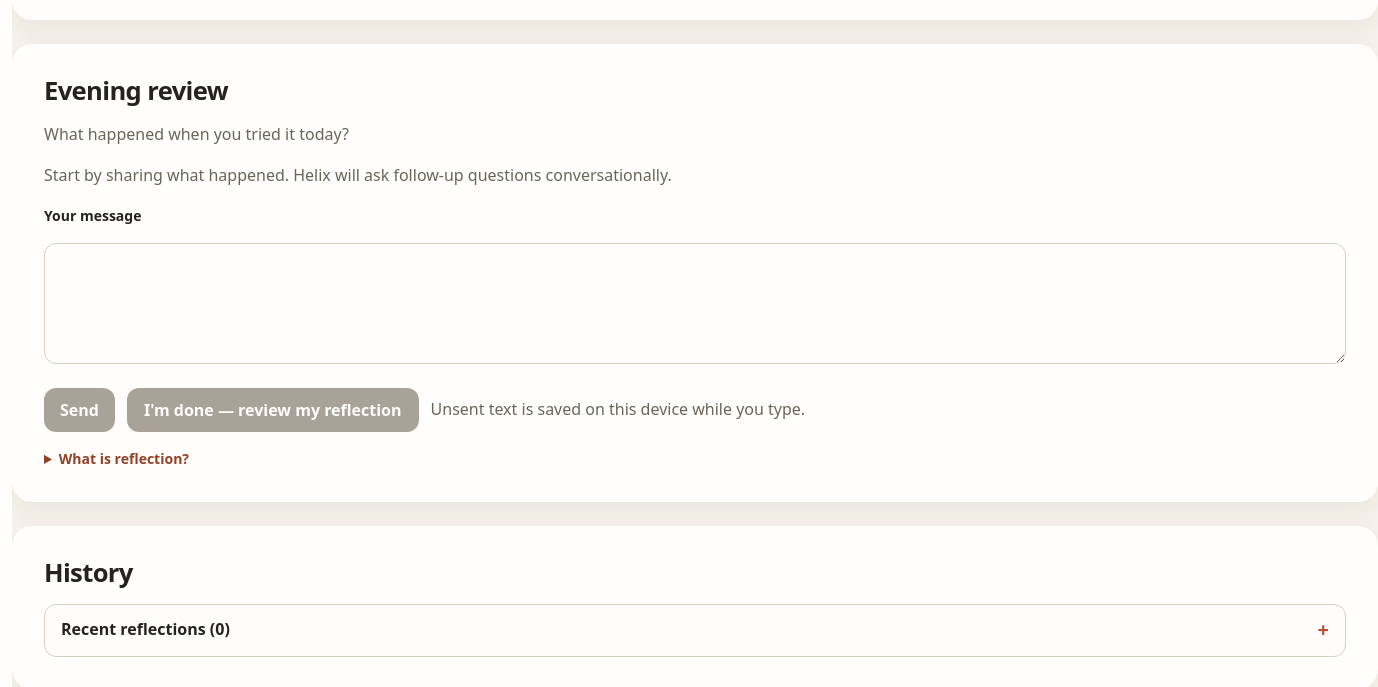
Test: TodayPage › offers an AI-derived memory proposal after saving a reflection, distinct from the wisdom card, and saves it
(page scrolled)
Expected: the text "Something worth remembering about you" is not shown
Type "I paused twice today." into the text box labelled "Your message" at (695, 304), box x1=44 y1=243 x2=1346 y2=364
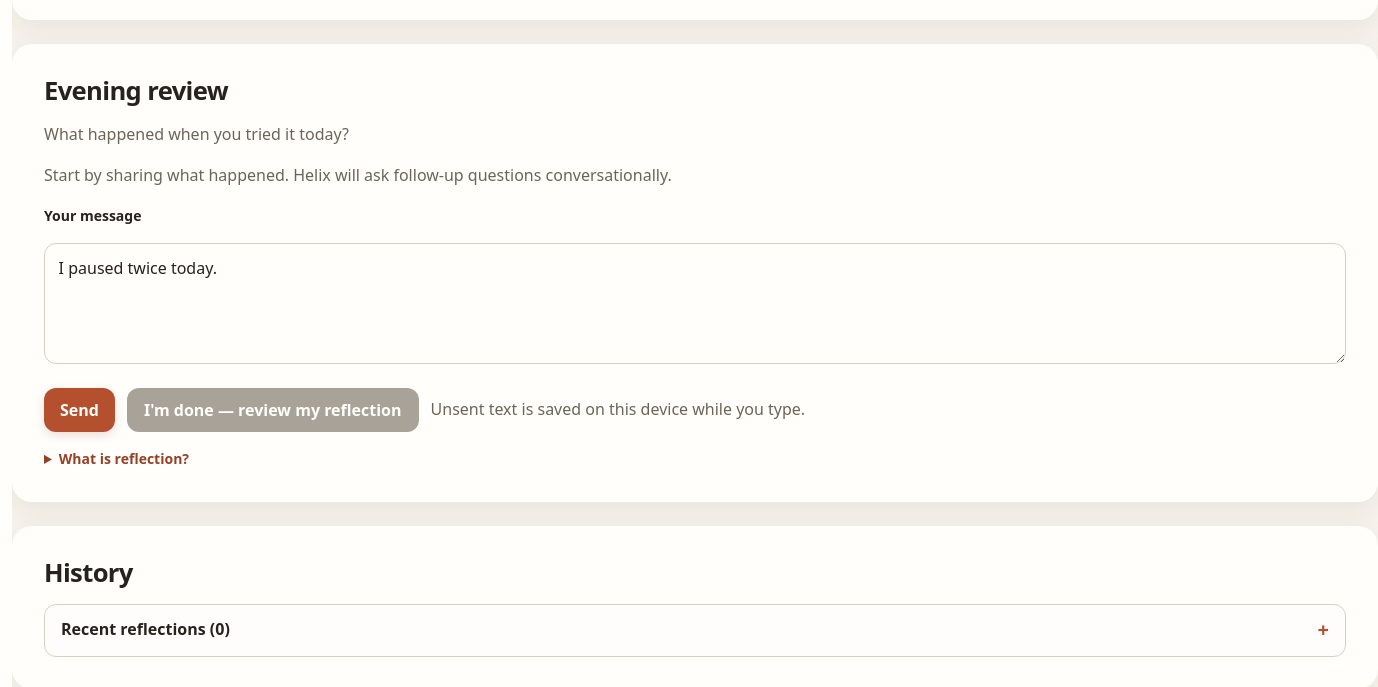
Click the button "Send" at (79, 410), box x1=44 y1=388 x2=115 y2=432
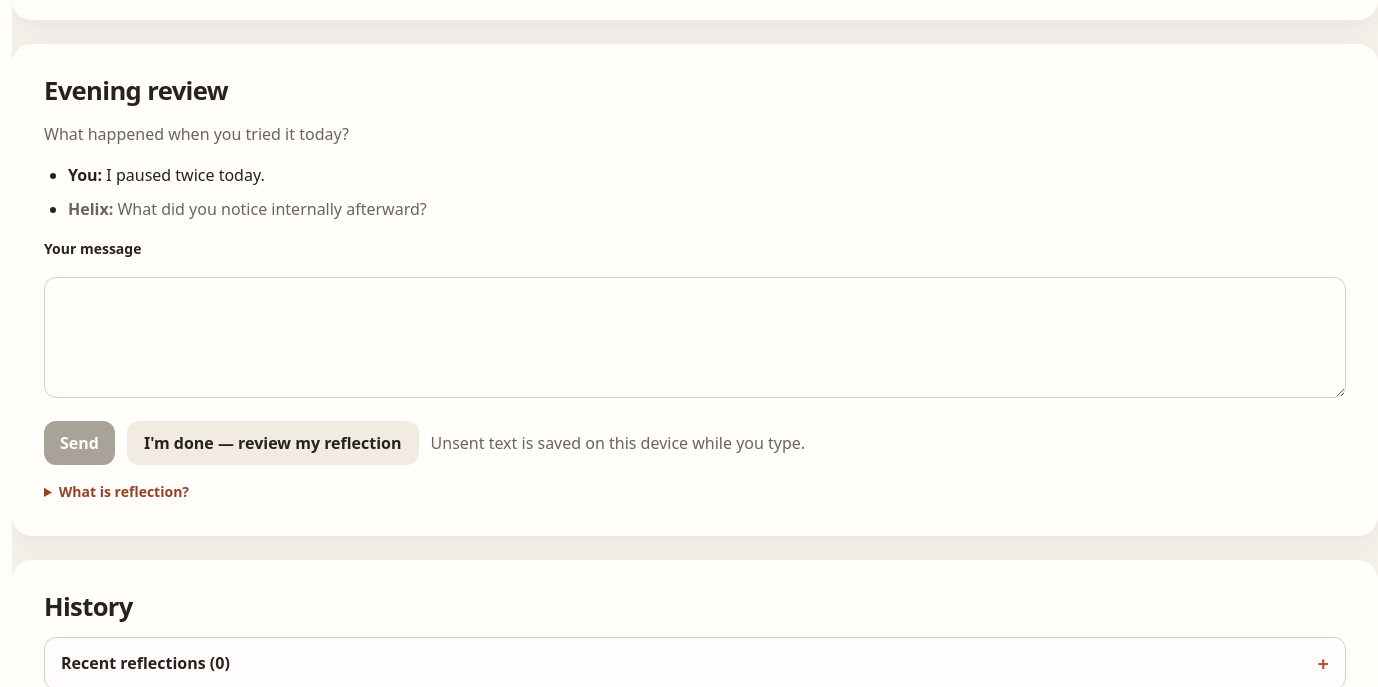
Click the button "I'm done — review my reflection" at (273, 444), box x1=127 y1=422 x2=418 y2=466
(page scrolled)
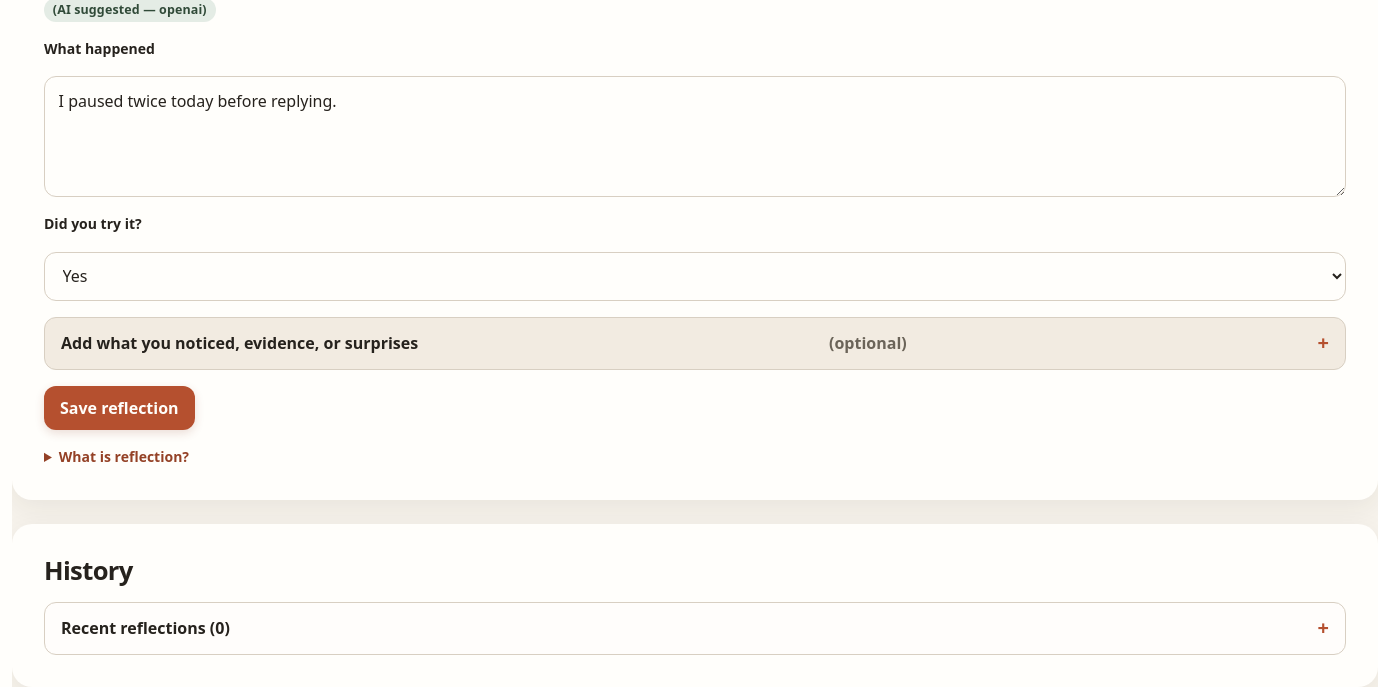
Click the button "Save reflection" at (119, 408), box x1=44 y1=386 x2=195 y2=430
(page scrolled)
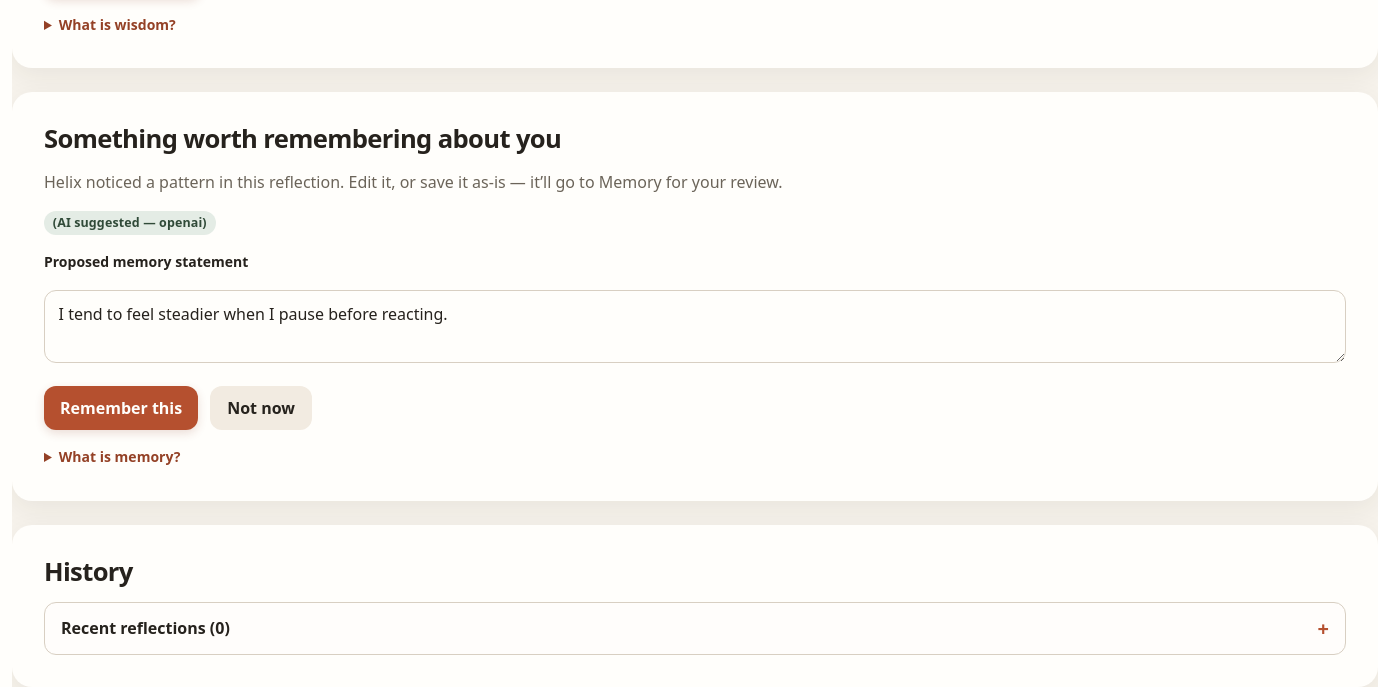
Result: the text "(AI suggested — openai)" is shown at x1=44 y1=211 x2=216 y2=235
Result: the heading "Something worth remembering about you" is shown at x1=44 y1=121 x2=561 y2=156
Result: the text box labelled "Proposed memory statement" holds "I tend to feel steadier when I pause before reacting." at x1=44 y1=290 x2=1346 y2=362
Click the button "Remember this" at (121, 408), box x1=44 y1=386 x2=198 y2=430
(page scrolled)
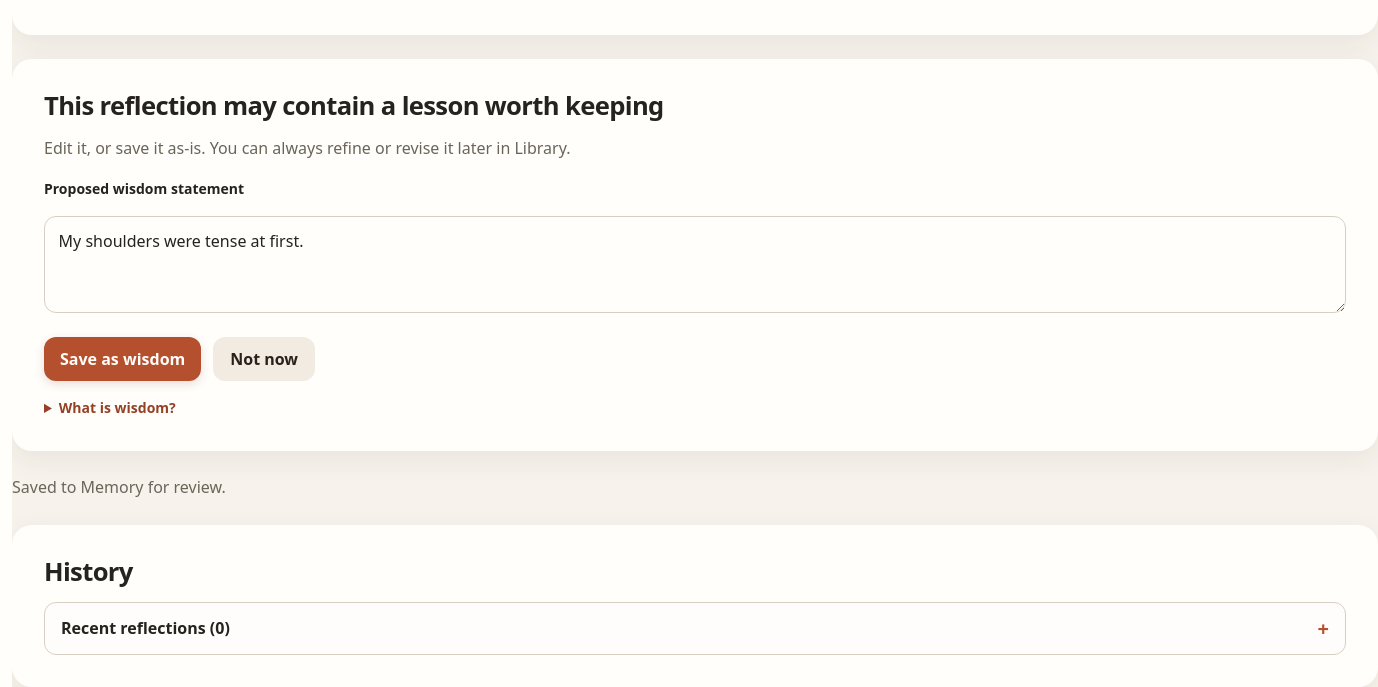
Result: the text "Saved to Memory for review." is shown at x1=12 y1=476 x2=226 y2=498
Result: the heading "Something worth remembering about you" is gone
